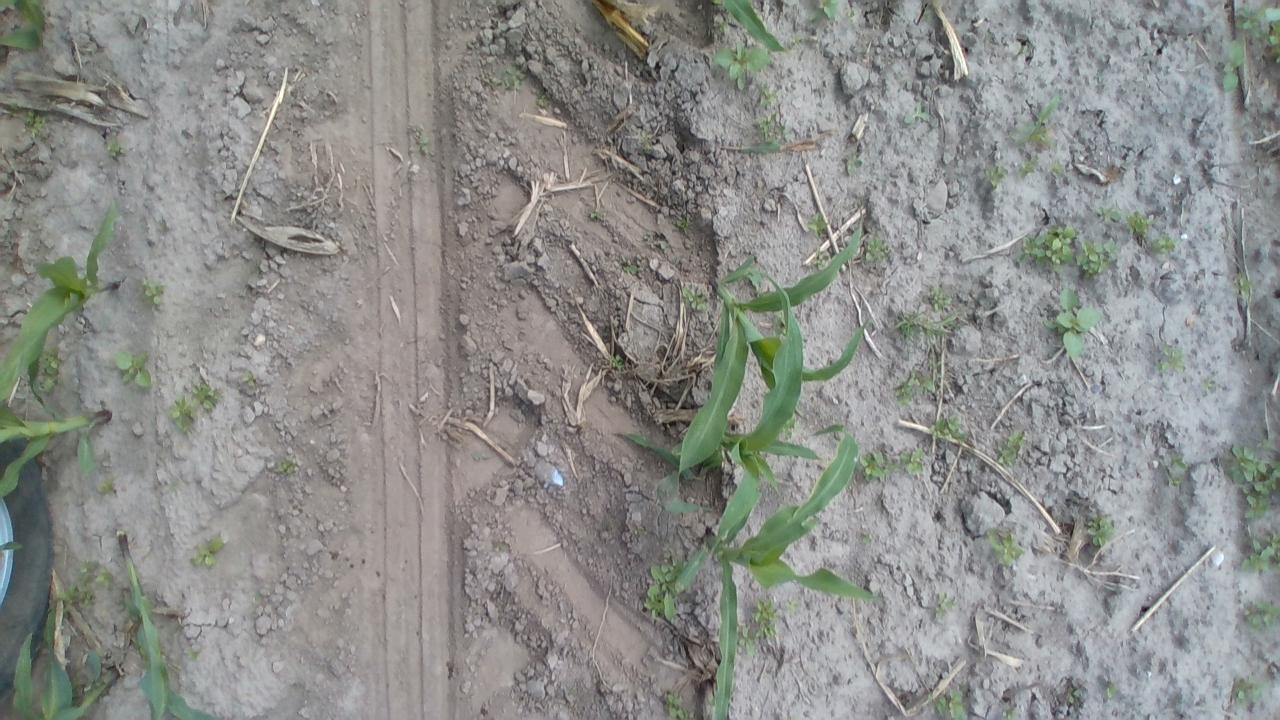Maize: (664, 426, 879, 719), (616, 274, 824, 559), (679, 221, 866, 473), (2, 206, 117, 402), (0, 330, 113, 510), (105, 529, 210, 718), (12, 611, 120, 720), (715, 1, 793, 52), (1, 0, 46, 58)
Weeds: (1226, 441, 1280, 520), (1044, 286, 1094, 360), (975, 162, 1072, 188), (1233, 4, 1280, 56), (1016, 98, 1063, 147), (1028, 226, 1082, 264), (711, 58, 773, 90), (854, 230, 895, 277), (1128, 213, 1174, 252), (648, 566, 682, 616), (112, 352, 152, 394), (1239, 534, 1280, 574), (739, 118, 783, 155), (894, 368, 935, 403), (1081, 506, 1115, 548), (1238, 596, 1279, 629), (191, 530, 225, 569), (1161, 442, 1186, 490), (1223, 40, 1245, 94), (756, 598, 781, 644), (1230, 677, 1264, 710), (1078, 244, 1113, 276), (994, 530, 1024, 566), (42, 351, 65, 393), (994, 433, 1026, 463), (192, 378, 220, 412), (168, 400, 194, 435), (899, 448, 930, 476), (661, 687, 687, 720), (862, 451, 888, 483), (1154, 342, 1184, 369), (894, 312, 926, 336), (142, 280, 166, 312), (684, 286, 710, 314), (935, 693, 963, 719), (931, 419, 964, 440), (924, 290, 954, 312), (811, 2, 841, 24), (499, 66, 526, 90), (22, 109, 46, 134), (935, 594, 955, 624), (266, 455, 296, 474), (1100, 206, 1124, 228), (1067, 680, 1085, 706), (898, 112, 933, 125), (807, 213, 828, 233), (620, 258, 643, 276), (1000, 699, 1018, 720), (105, 141, 125, 159), (586, 209, 606, 223), (1102, 682, 1116, 701), (676, 219, 692, 234)
